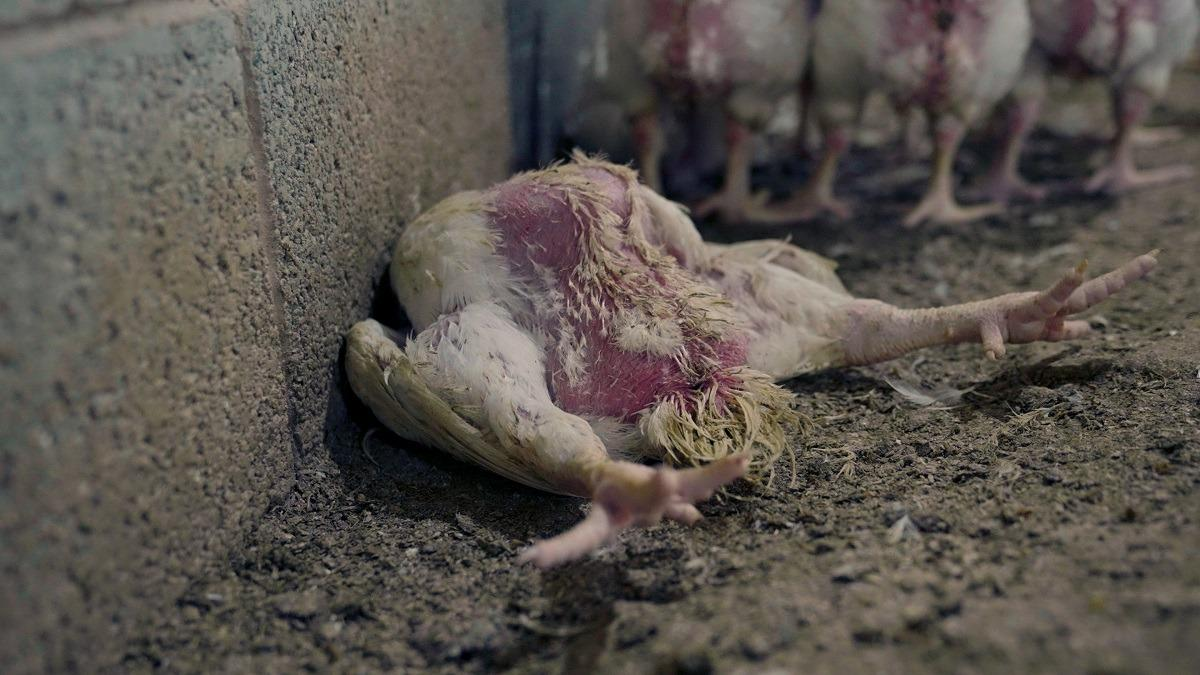AbNormal: (353, 135, 1167, 562)
